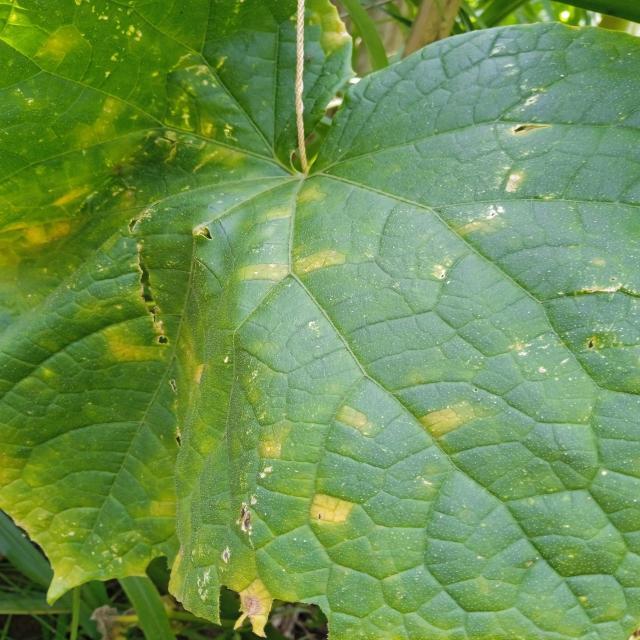cucumber_downy: (0, 21, 540, 600)
